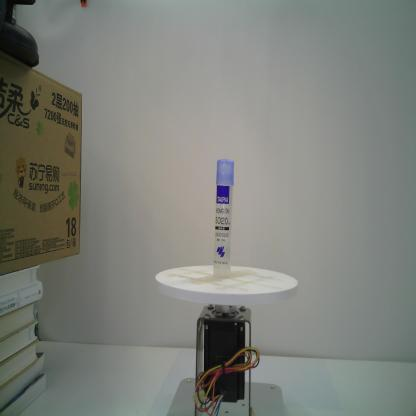Stationery: (213, 158, 234, 278)
